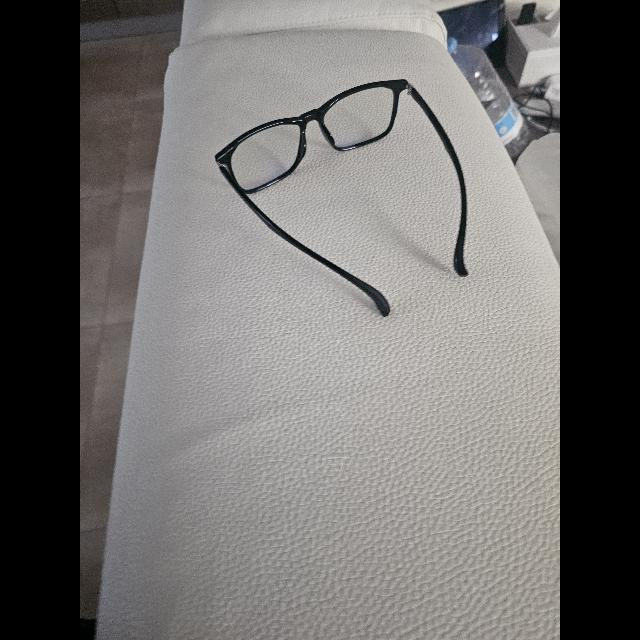glasses: (215, 80, 467, 316)
